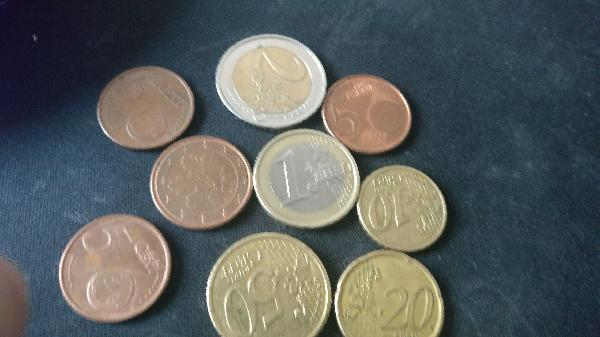Fifty Cent: (204, 232, 330, 337)
Five Cent: (55, 213, 172, 317), (146, 133, 252, 231), (97, 65, 196, 149), (321, 72, 422, 153)
One Euro: (249, 128, 359, 226)
Ten Cent: (357, 164, 450, 252)
Twenty Cent: (332, 251, 452, 337)
Two Euro: (217, 32, 327, 127)
